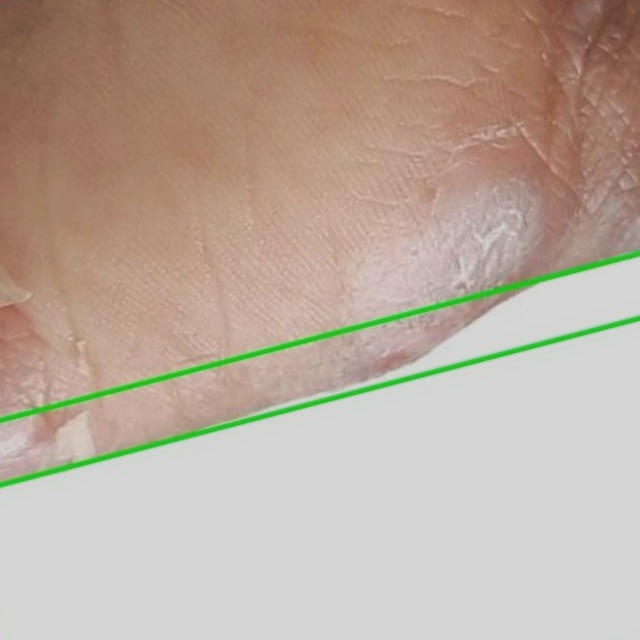Scabies: (0, 0, 639, 485), (0, 252, 639, 639)
